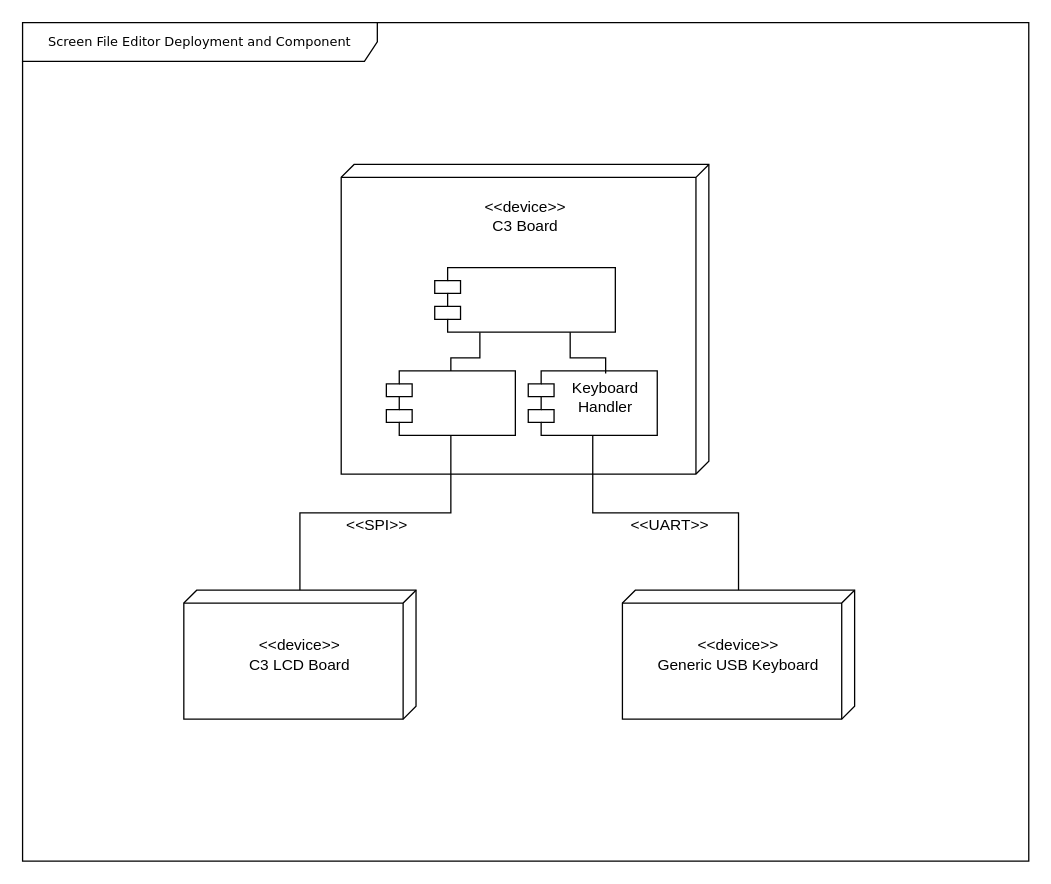
Image size: 1051x884. Some labels were removed from this diagram. Each missing label, with the centre of its shape:
Content Editor: [524,299]
Screen Handler: [450,402]
